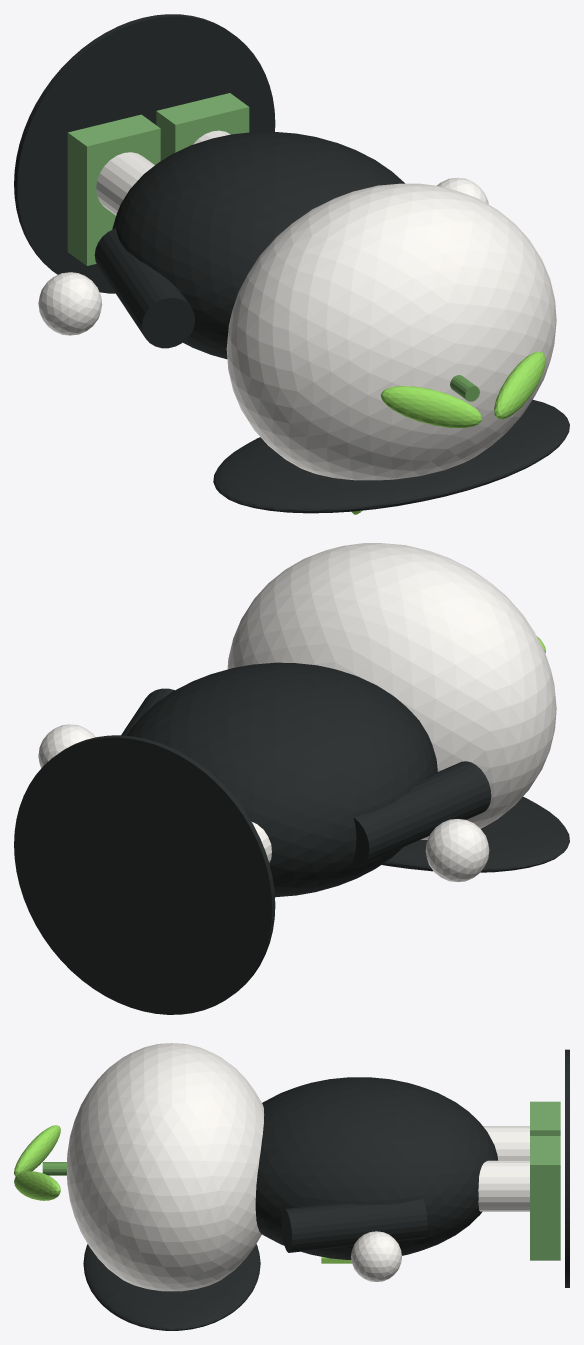
The model's file is shorshi.glb.
3 renders of one model, top to bottom at view 1: azimuth 30°, elevation 25°; view 2: azimuth 150°, elevation 25°; view 3: azimuth 270°, elevation 25°, orthographic. The views are drawn at different scales.
Visible parts, largest first — view 1: white_round_head_shell, black_hoodie_body, small_display_base, black_hood_rim_behind_face, green_sneaker_1, black_hoodie_arm_1, green_sneaker_2, white_hand_1, green_leaf_1, white_short_leg_1, green_leaf_2; view 2: small_display_base, white_round_head_shell, black_hoodie_body, black_hoodie_arm_1, black_hood_rim_behind_face, white_hand_1, white_hand_2; view 3: white_round_head_shell, black_hoodie_body, black_hood_rim_behind_face, black_hoodie_arm_2, green_sneaker_2, white_short_leg_2, white_hand_2, white_short_leg_1, small_display_base, green_leaf_1, green_sneaker_1, green_leaf_2.
Boxes of the visible parts, bbox=[...] form: white_round_head_shell: bbox=[226, 183, 556, 480]; black_hoodie_body: bbox=[112, 131, 404, 359]; small_display_base: bbox=[14, 14, 275, 293]; black_hood_rim_behind_face: bbox=[213, 400, 569, 513]; green_sneaker_1: bbox=[67, 114, 160, 265]; black_hoodie_arm_1: bbox=[94, 228, 194, 348]; green_sneaker_2: bbox=[156, 93, 249, 160]; white_hand_1: bbox=[38, 272, 102, 335]; green_leaf_1: bbox=[380, 386, 482, 428]; white_short_leg_1: bbox=[96, 152, 154, 215]; green_leaf_2: bbox=[494, 351, 545, 419]; small_display_base: bbox=[14, 735, 275, 1014]; white_round_head_shell: bbox=[227, 543, 556, 839]; black_hoodie_body: bbox=[126, 662, 437, 897]; black_hoodie_arm_1: bbox=[351, 761, 491, 866]; black_hood_rim_behind_face: bbox=[381, 796, 569, 872]; white_hand_1: bbox=[425, 819, 489, 882]; white_hand_2: bbox=[38, 724, 95, 768]; white_round_head_shell: bbox=[66, 1043, 264, 1291]; black_hoodie_body: bbox=[255, 1077, 497, 1259]; black_hood_rim_behind_face: bbox=[83, 1244, 260, 1330]; black_hoodie_arm_2: bbox=[281, 1199, 427, 1252]; green_sneaker_2: bbox=[530, 1136, 560, 1260]; white_short_leg_2: bbox=[478, 1160, 529, 1211]; white_hand_2: bbox=[351, 1231, 401, 1281]; white_short_leg_1: bbox=[483, 1126, 529, 1160]; small_display_base: bbox=[565, 1049, 569, 1287]; green_leaf_1: bbox=[14, 1125, 60, 1176]; green_sneaker_1: bbox=[530, 1101, 560, 1135]; green_leaf_2: bbox=[14, 1171, 60, 1200].
Size of the model in its own units: 2.4 by 1.55 by 3.26.
